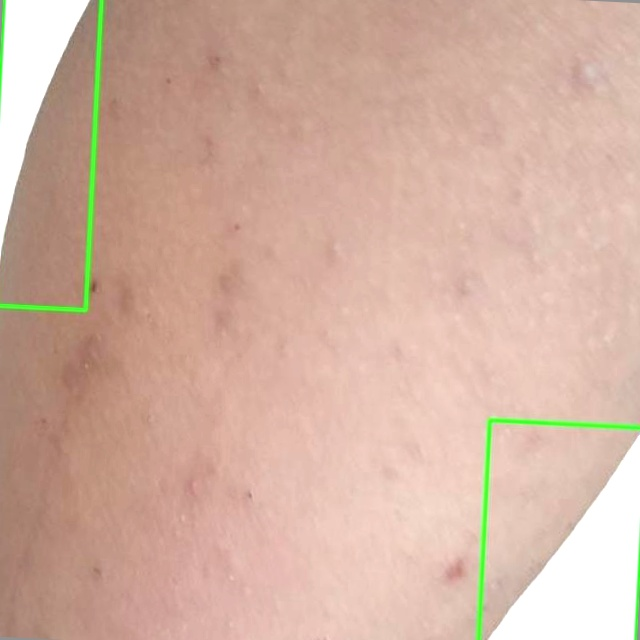Scabies: (477, 421, 639, 639), (0, 0, 101, 309)
